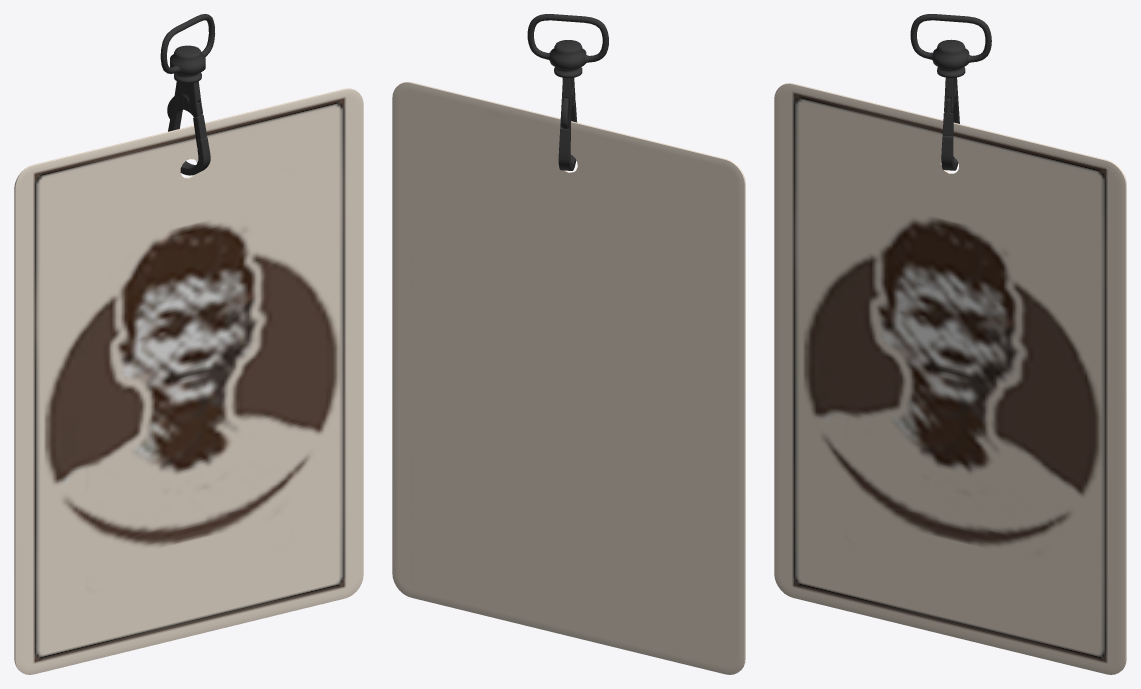
The model's file is cards.glb.
3 views of the same model, side by side, from view 1: azimuth 30°, elevation 25°; view 2: azimuth 150°, elevation 25°; view 3: azimuth 330°, elevation 25° (orthographic).
Visible parts, largest first — view 1: card, clamp, clip; view 2: card, clip, clamp; view 3: card, clip, clamp.
Part boxes in pixels (x1=…): card: x1=14, y1=88, x2=363, y2=674; clamp: x1=167, y1=81, x2=210, y2=175; clip: x1=160, y1=14, x2=214, y2=83; card: x1=392, y1=82, x2=745, y2=674; clip: x1=527, y1=14, x2=608, y2=78; clamp: x1=558, y1=77, x2=577, y2=170; card: x1=774, y1=83, x2=1126, y2=674; clip: x1=910, y1=14, x2=991, y2=77; clamp: x1=941, y1=77, x2=959, y2=170.
Bounding box in the file's own units: 0.7164 × 1.21 × 0.0903.
Materials: 2 (1 with a texture image).
